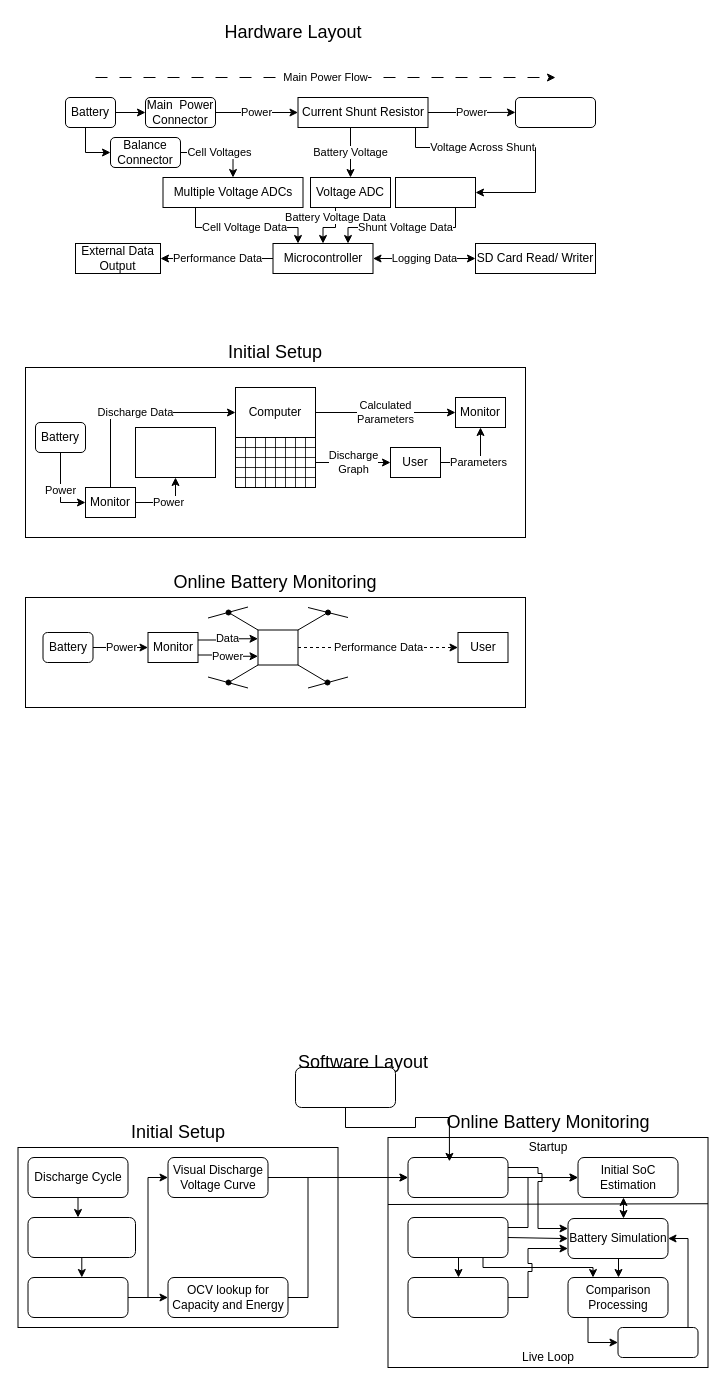
Some shapes in this 726 by 1385 pixel diagram are drawn without their labels. The centre of each missing label's shape, as x and y in pixels:
"Battery Discharger" belongs at pixel 175 452.
"BMS with Data Gathering Firmware" belongs at pixel 81 1237.
"Data processing program" belongs at pixel 77 1297.
"Drone" belongs at pixel 277 647.
"Estimated Performance" belongs at pixel 657 1342.
"Output Power Connector" belongs at pixel 555 112.
"PAREMETERSSSS" belongs at pixel 345 1087.
"Resistance Estimation" belongs at pixel 457 1297.
"Shunt ADC" belongs at pixel 435 192.
"Simulation Paremeters" belongs at pixel 457 1177.
"Voltage and Current Input" belongs at pixel 457 1237.
